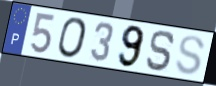3: (89, 21, 116, 64)
5: (29, 10, 58, 55)
9: (116, 24, 147, 69)
O: (57, 16, 89, 60)
S: (173, 34, 207, 77), (145, 29, 177, 73)
